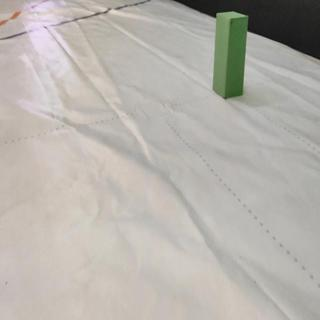greenbox: (212, 10, 249, 99)
